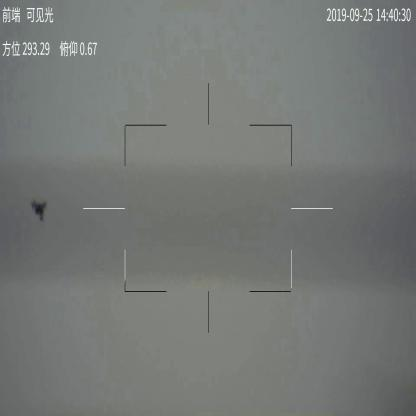uav: (30, 199, 48, 222)
